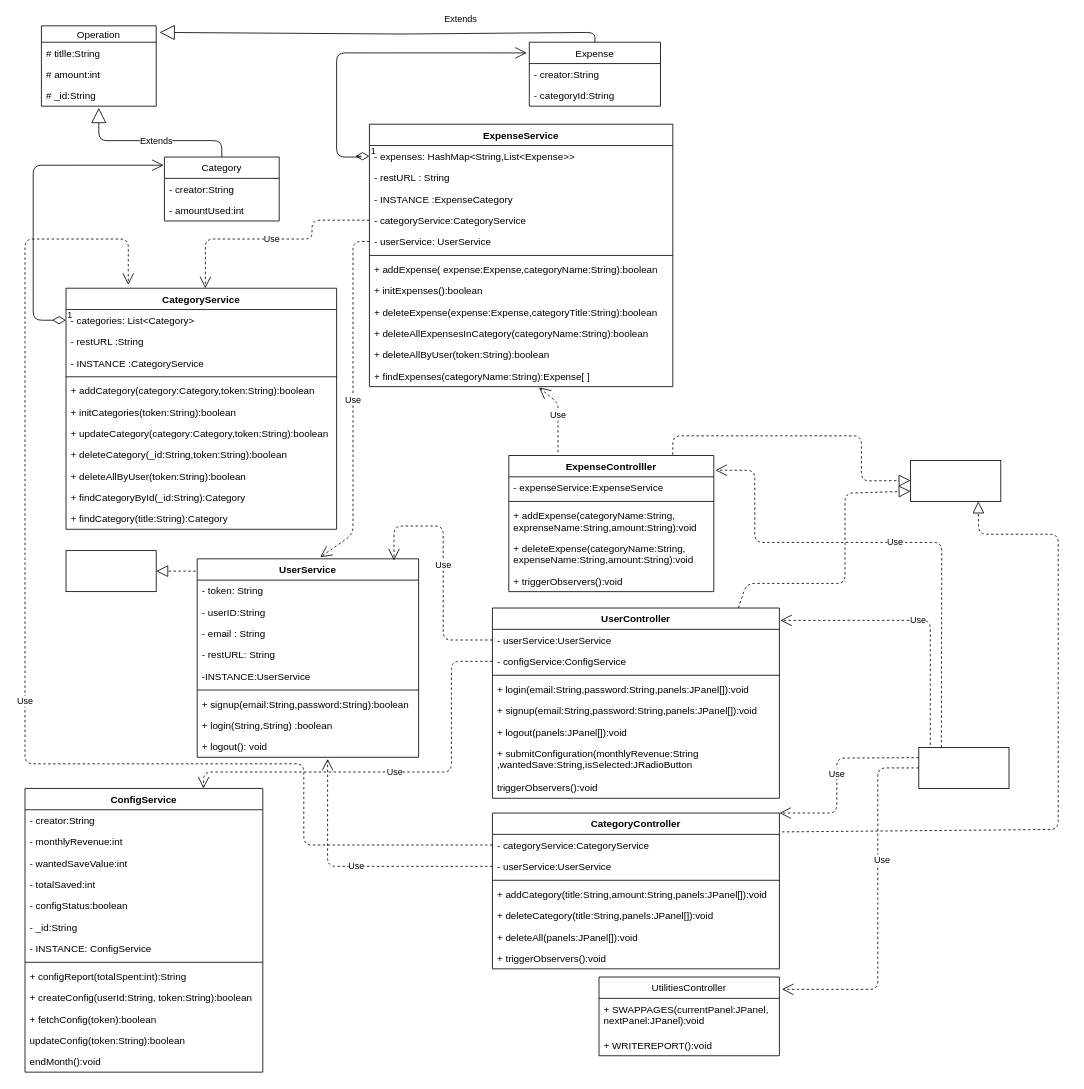
This 1084x1089 diagram has some shape labels left out. The shapes that lost their labels are listed below. From the top down, each one's centre as x and y in pixels, then its label:
the point at 955,480: «interface» Observable
the point at 110,571: «interface» IAuthentication
the point at 963,767: User Interface
